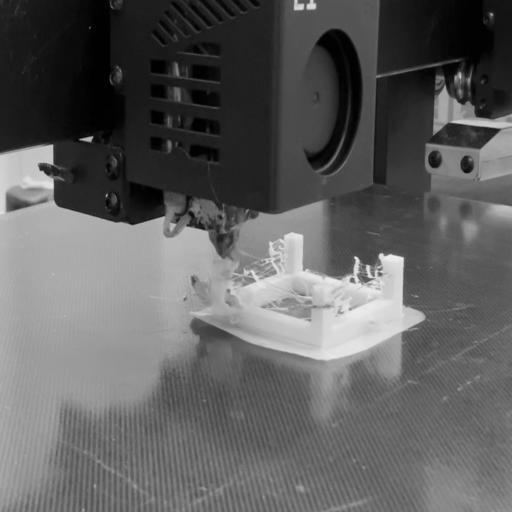spaghetti_and_stringing: (190, 236, 404, 322)
warp: (178, 311, 264, 366)
